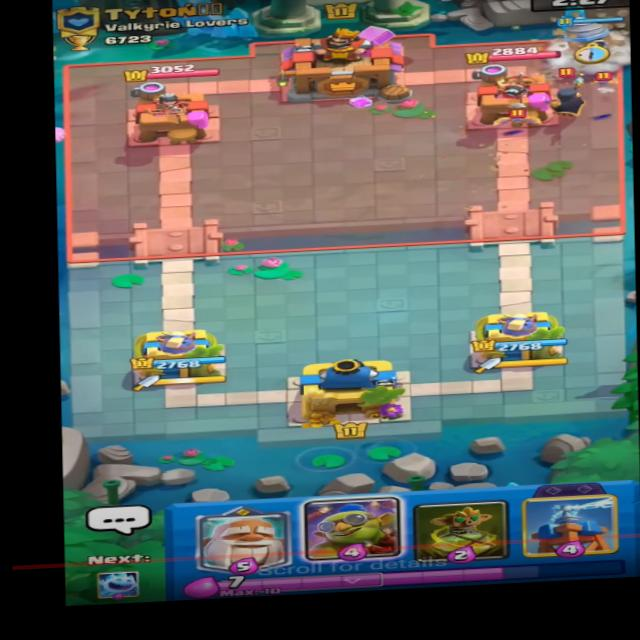Bat: (488, 109, 546, 129), (586, 67, 624, 87)
Nightwitch: (541, 68, 599, 126)
